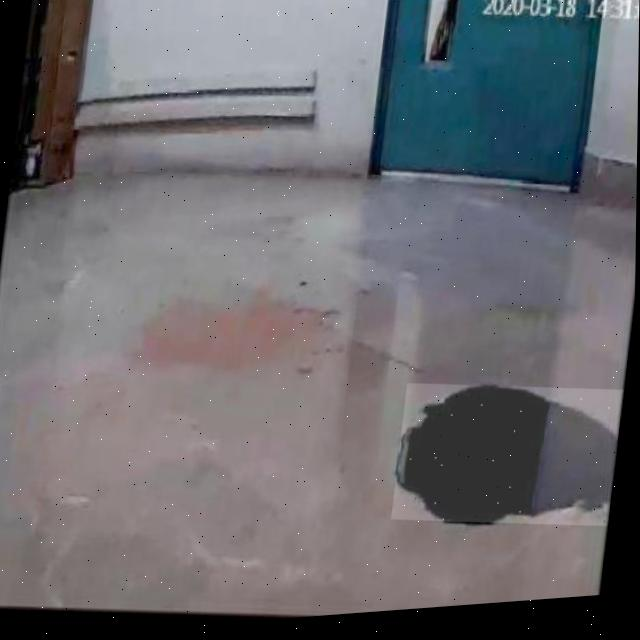spillage: (397, 393, 619, 528)
